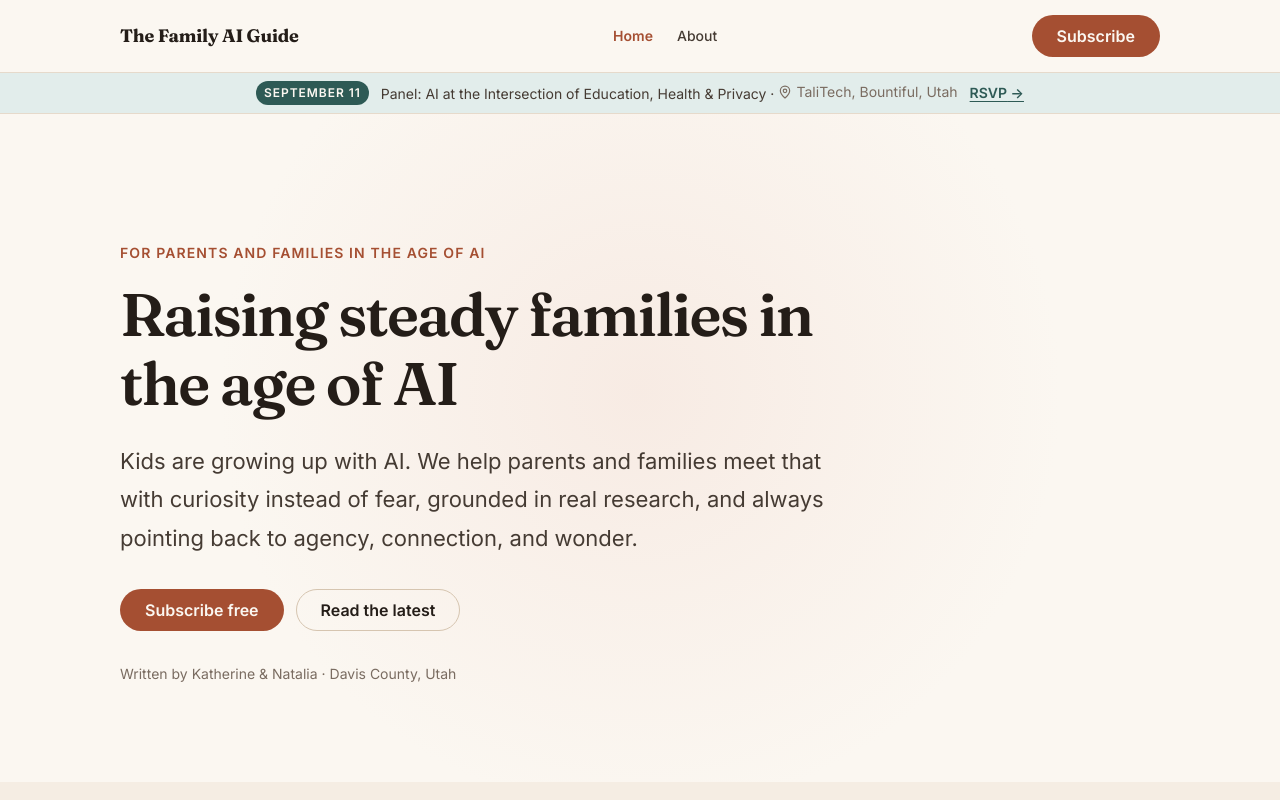
it: App routing › navigates to the About page and back
The image size is (1280, 800).
Click the link "About" at (697, 36), box [677,27,717,44]
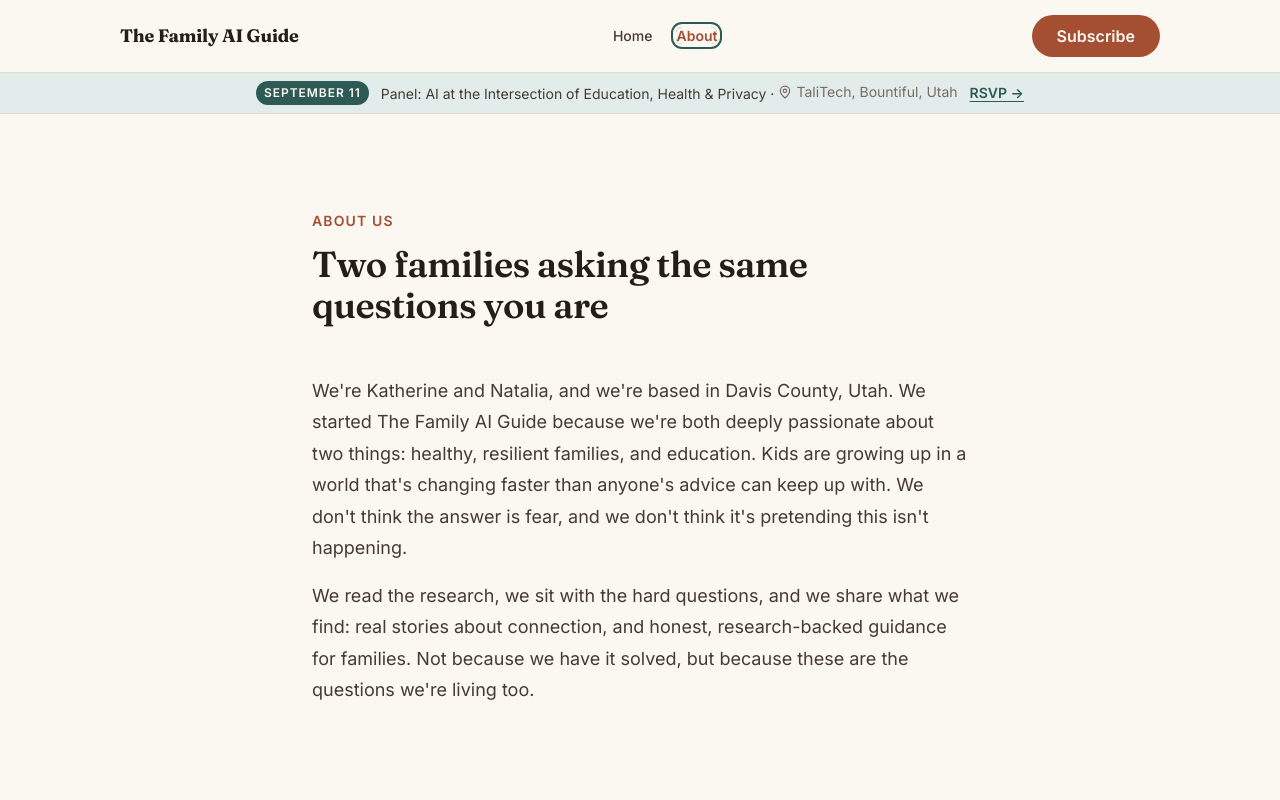
Click the link "Home" at (633, 36), box [613,27,652,44]
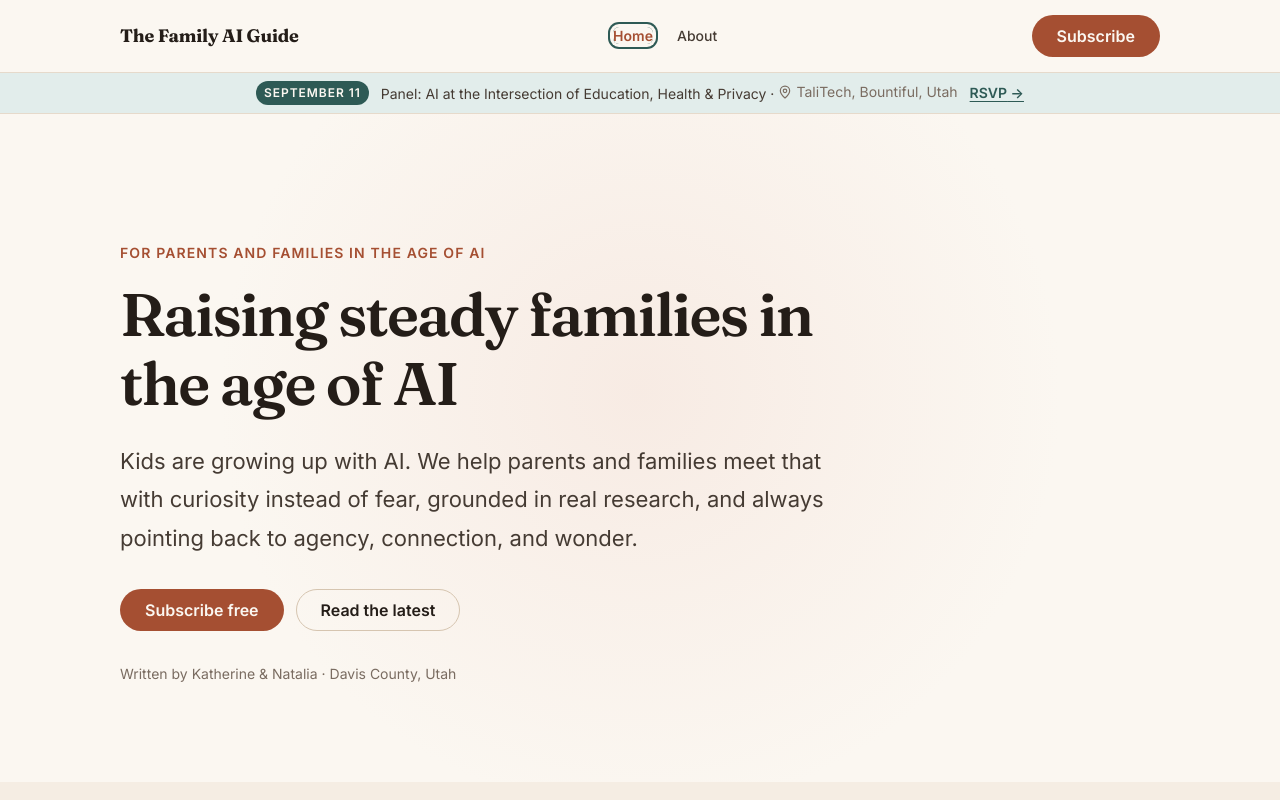
Now the heading "Raising steady families in the age of AI" is shown, box [120,280,824,418]
